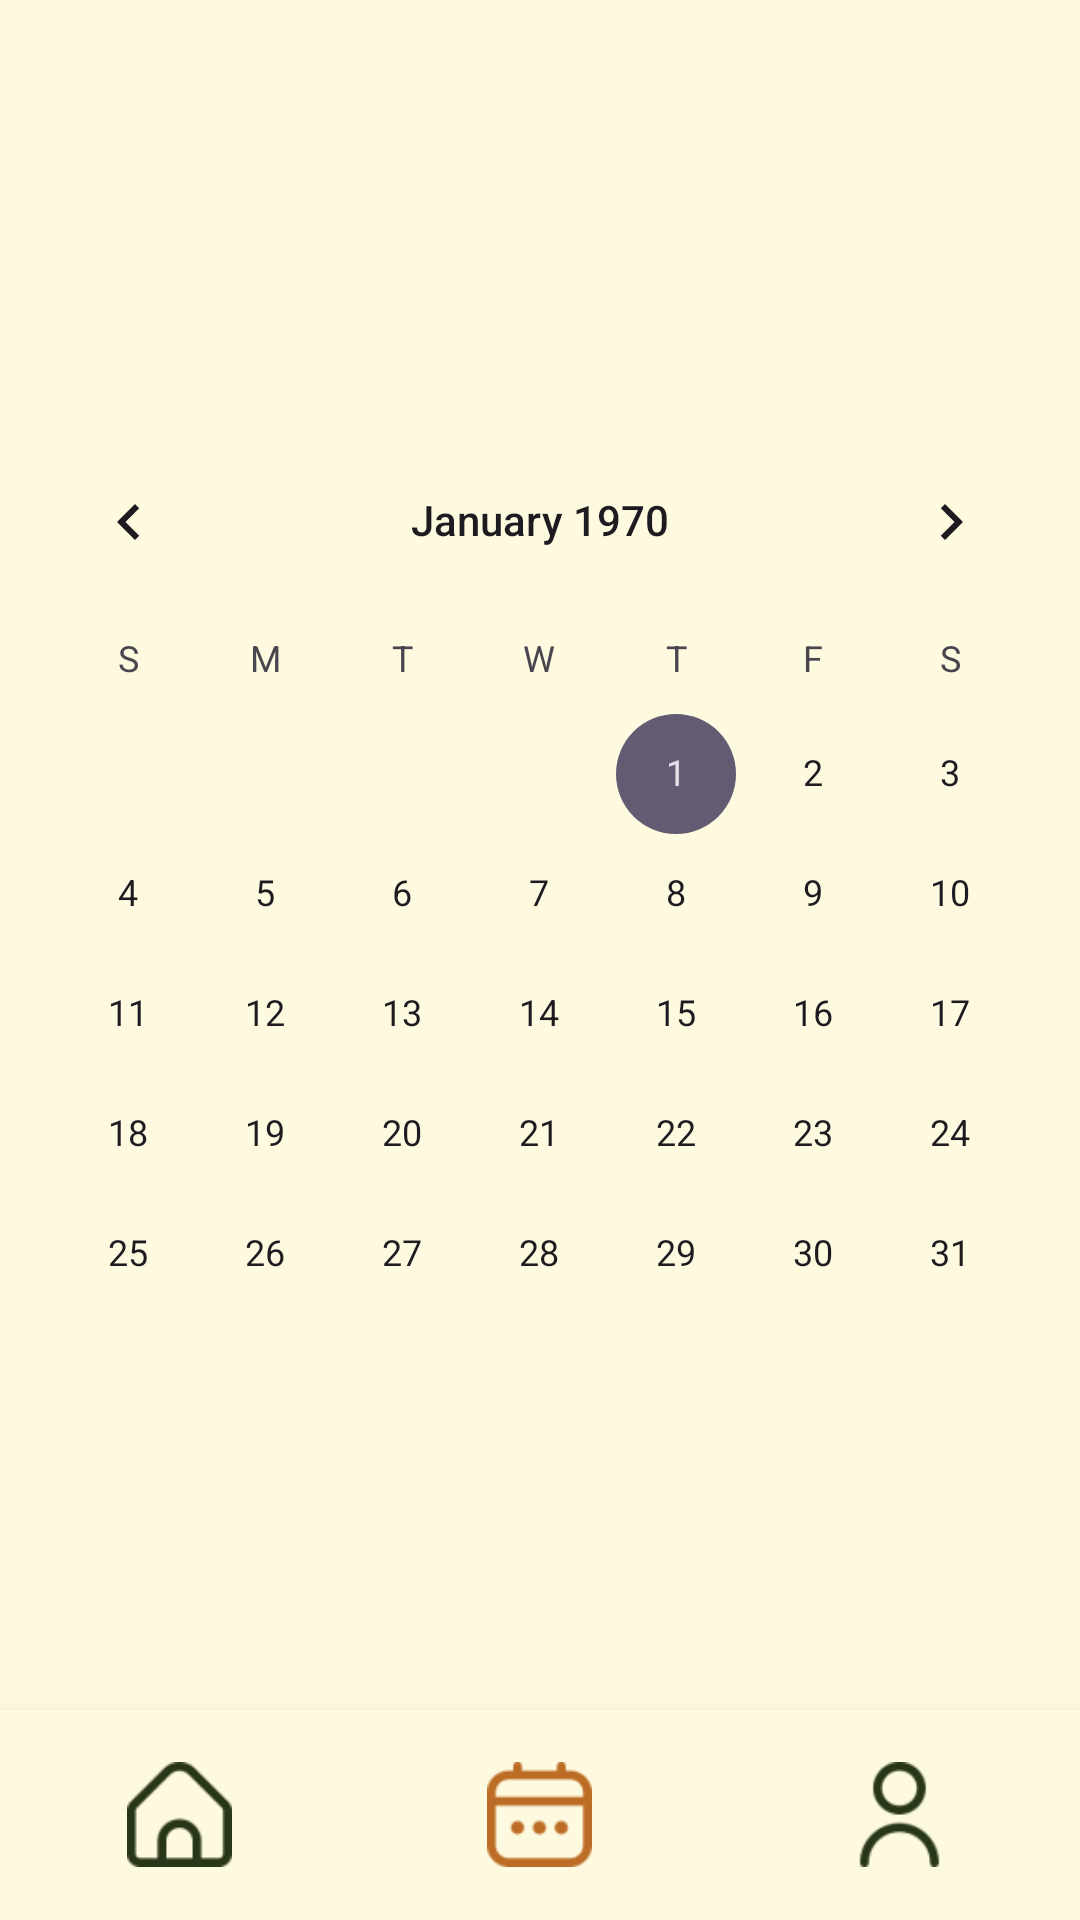

Icon bounding boxes for this 1080px×1920px phone screenshot, format (x1, y1, x2, y2):
calendar: (487, 1762, 592, 1867)
home: (127, 1762, 232, 1867)
profile: (859, 1762, 940, 1867)
